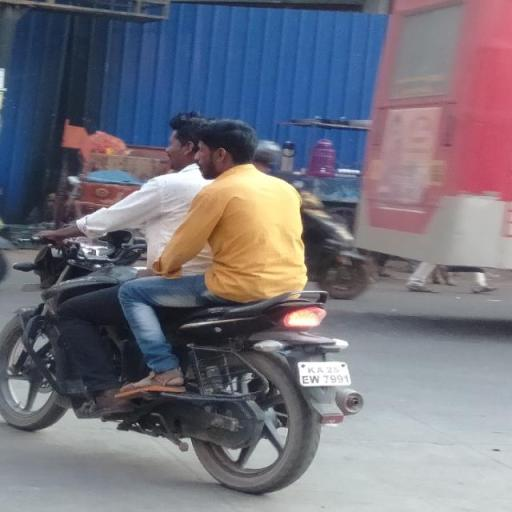bike: (0, 108, 367, 496)
numberplate: (300, 362, 354, 385)
withouthelmet: (201, 120, 250, 174), (168, 116, 197, 167)
